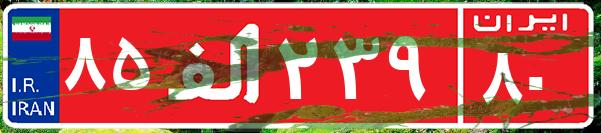0: (525, 38, 570, 115)
2: (273, 28, 330, 110)
3: (330, 28, 385, 110)
5: (110, 28, 158, 105)
8: (57, 26, 110, 107), (475, 38, 525, 113)
9: (385, 28, 445, 110)
الف: (158, 15, 273, 115)
